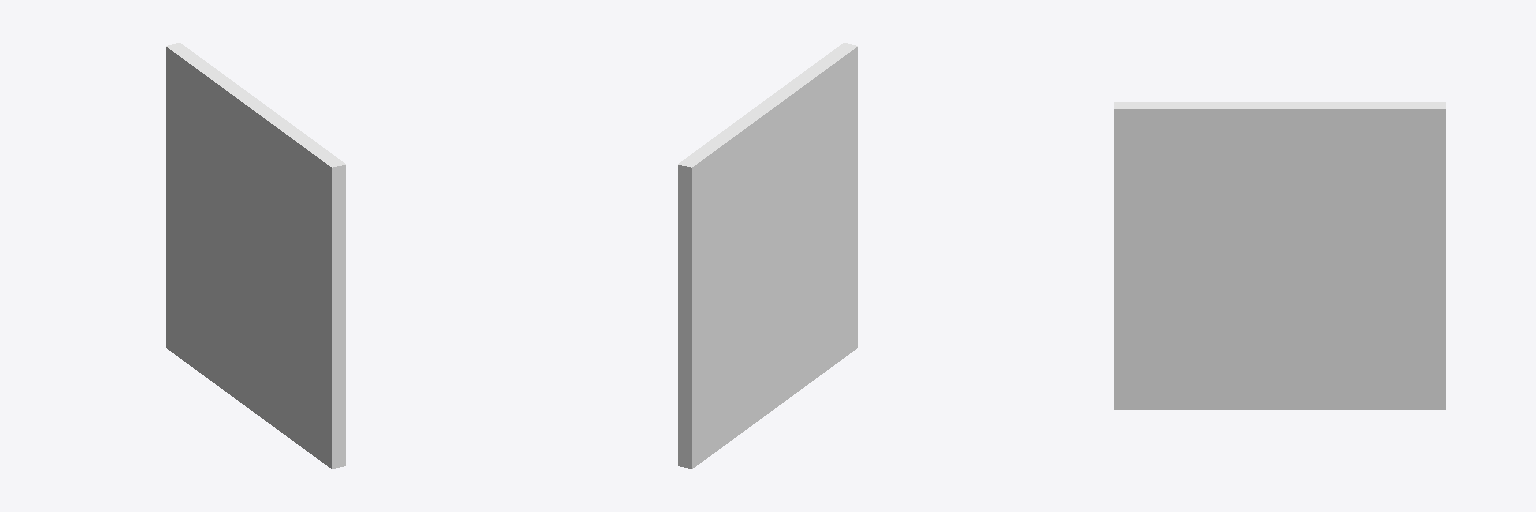
The model's file is strzelajacaPojedyncza.obj.
3 views of the same model, side by side, from view 1: azimuth 30°, elevation 25°; view 2: azimuth 150°, elevation 25°; view 3: azimuth 270°, elevation 25° (orthographic).
Visible parts, largest first — view 1: object 1; view 2: object 1; view 3: object 1.
Boxes of the visible parts, x1,y1,x2,y2 form: object 1: [166, 43, 345, 468]; object 1: [678, 43, 857, 468]; object 1: [1114, 102, 1445, 409].
Size of the model in its own units: 0.2 by 4 by 4.